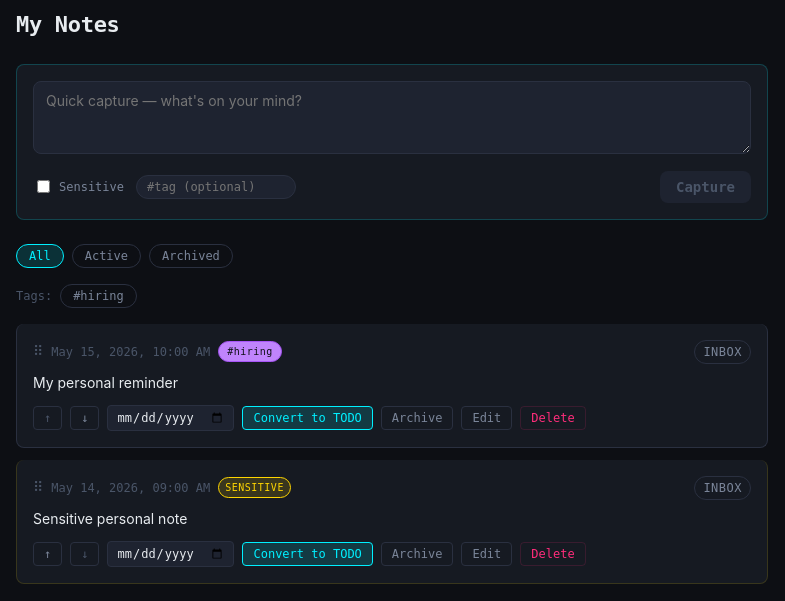
MyNotesPage › disables reordering when viewing the archived filter
Click the button with test id "filter-ARCHIVED". click: {"x": 191, "y": 256}
box: x1=149 y1=244 x2=233 y2=268
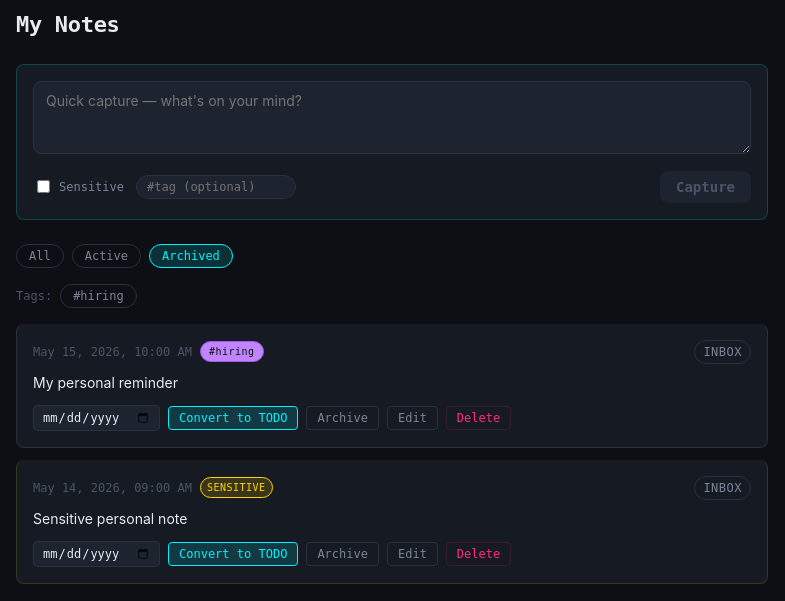
Check: the button with test id "my-note-move-up-btn" is gone
